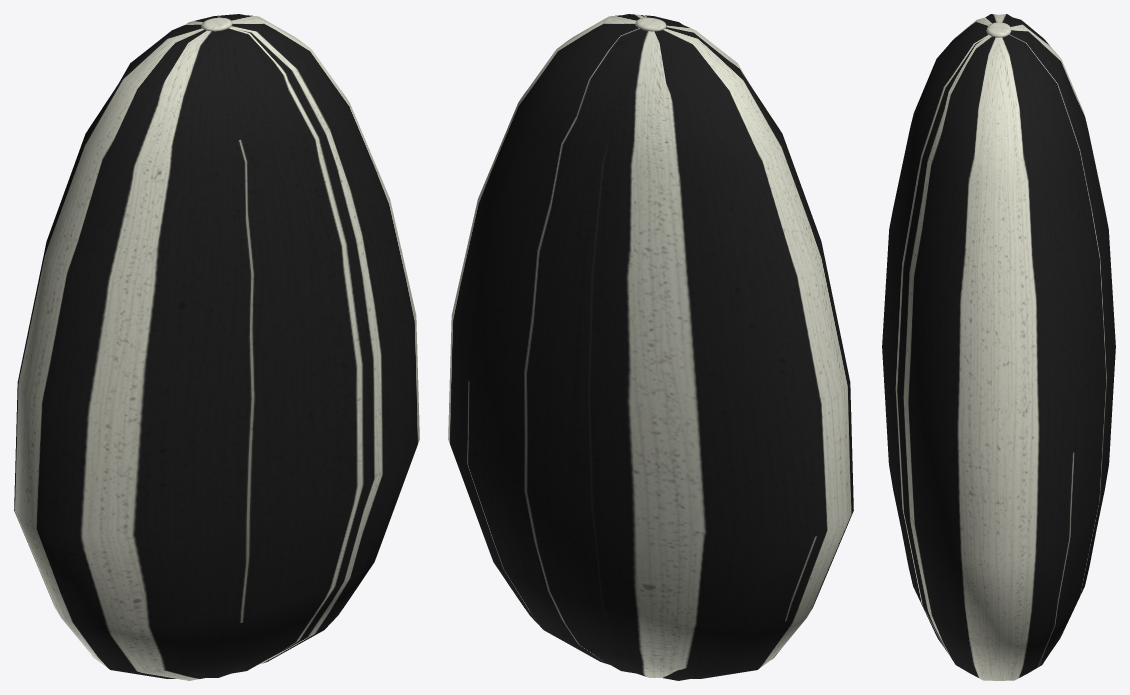
File: seed.fbx
The picture shows the model from 3 angles, left to right: view 1: azimuth 30°, elevation 25°; view 2: azimuth 150°, elevation 25°; view 3: azimuth 270°, elevation 25°; orthographic projection. The views are drawn at different scales.
Visible parts, largest first — view 1: seed1; view 2: seed1; view 3: seed1.
Part boxes in pixels (x1,y1,x2,y2): seed1: [14, 14, 419, 680]; seed1: [448, 14, 853, 680]; seed1: [882, 14, 1115, 680].
Bounding box in the file's own units: 13.49 × 21.35 × 7.19.
1 material, 1 textured.
